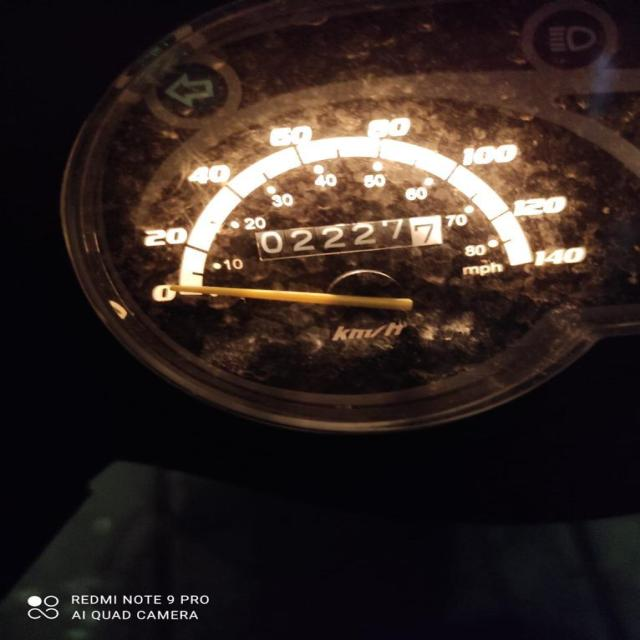odometer: (253, 213, 444, 263)
